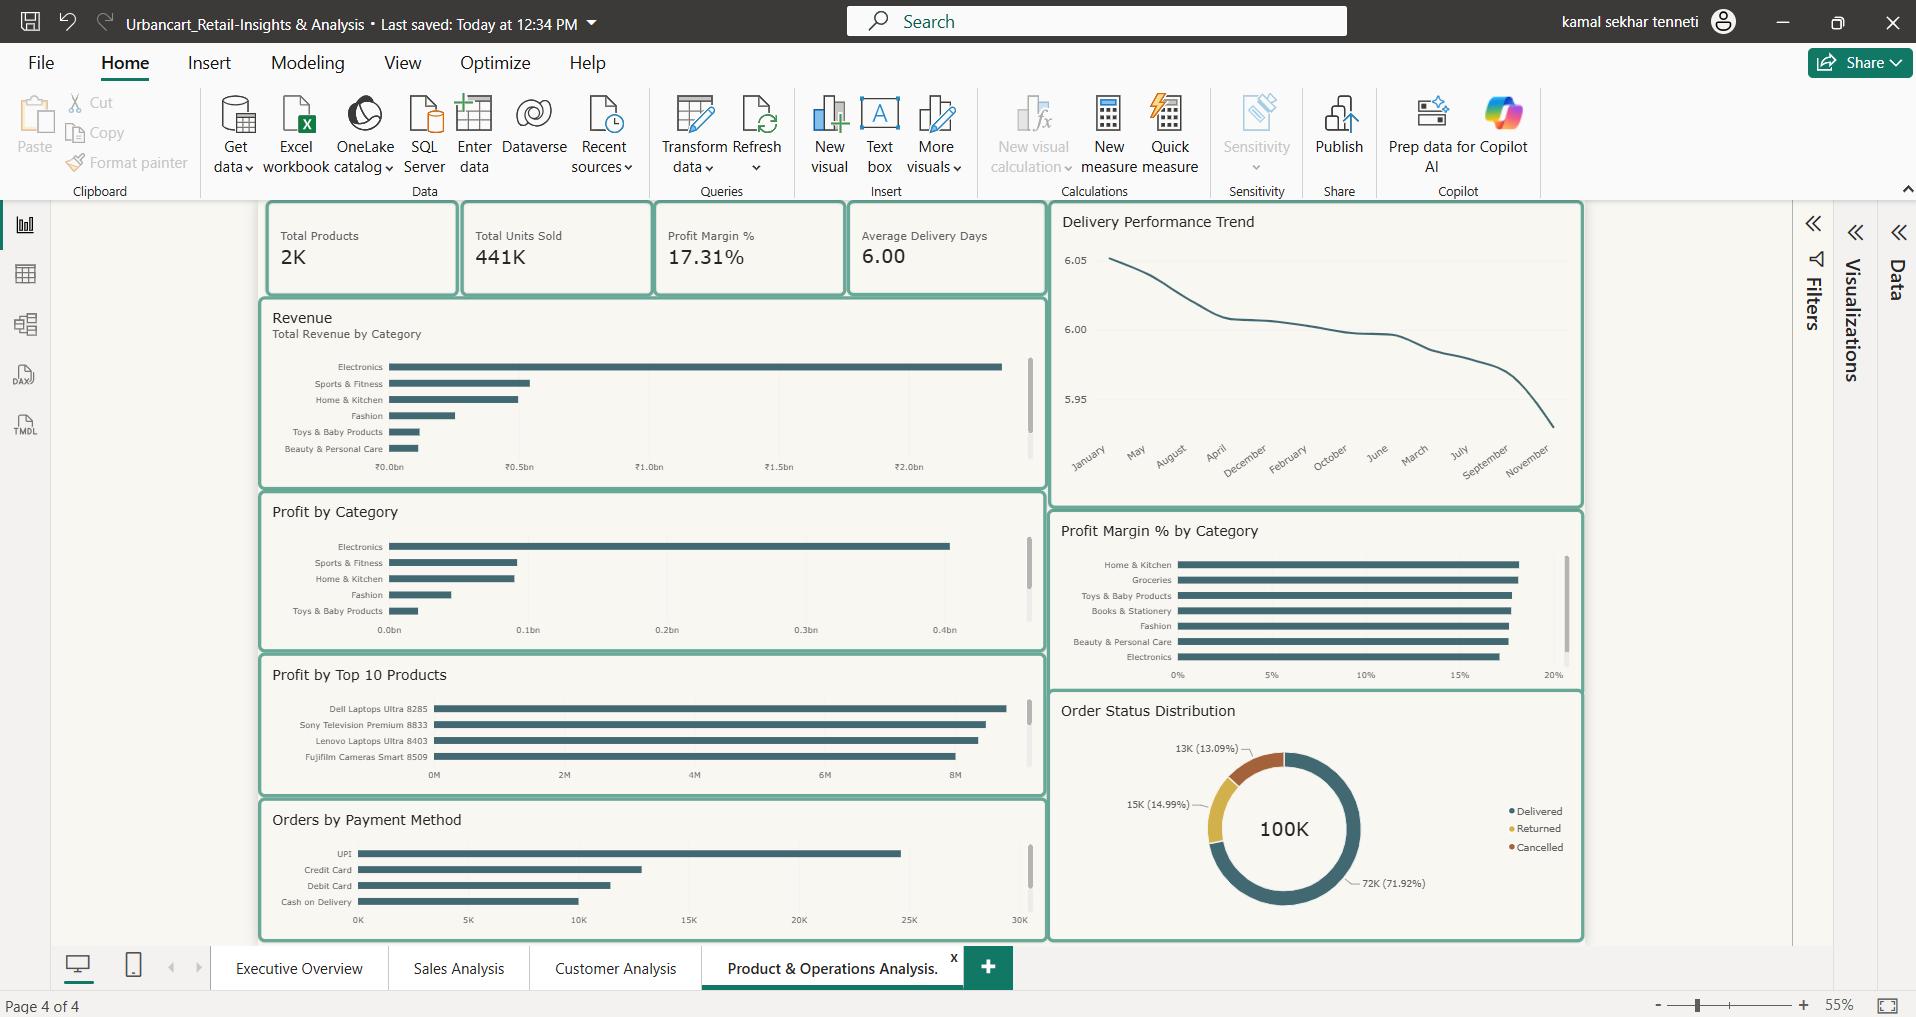

The page's visual inventory and layout, read from the dashboard file:
{"tool":"powerbi","page":{"name":"Product & Operations Analysis.","canvas":[1920,1080],"ordinal":3},"visuals":[{"type":"cardVisual","fields":{"Data":["Products.Total Products"]},"box":[10,0,280,140],"z":0},{"type":"cardVisual","fields":{"Data":["Order_Details.Total Units Sold"]},"box":[292.5,0,280,140],"z":1000},{"type":"cardVisual","fields":{"Data":["Order_Details.Profit Margin %"]},"box":[572.5,0,280,140],"z":2000},{"type":"cardVisual","fields":{"Data":["Order_Details.Average Delivery Days"]},"box":[852.4,0,291.4,139.3],"z":3000},{"type":"clusteredBarChart","title":"Revenue","fields":{"Category":["Products.Category"],"Y":["Order_Details.Total Revenue"]},"box":[0,139.3,1143.7,280.5],"z":4000},{"type":"clusteredBarChart","title":"Profit by Category","fields":{"Category":["Products.Category"],"Y":["Order_Details.Total Profit"]},"box":[0,419.8,1141.9,235.3],"z":5000},{"type":"clusteredBarChart","title":"Profit by Top 10 Products","fields":{"Category":["Products.Product_Name"],"Y":["Order_Details.Total Profit"]},"box":[0,655.1,1141.9,209.9],"z":6000},{"type":"clusteredBarChart","fields":{"Category":["Products.Category"],"Y":["Order_Details.Profit Margin %"]},"box":[1141.9,447,778.2,273.3],"z":7000},{"type":"donutChart","title":"Order Status Distribution","fields":{"Category":["Orders.Order_Status"],"Y":["Orders.Total All Orders"]},"box":[1141.9,707.6,778.2,367.4],"z":8000},{"type":"clusteredBarChart","title":"Orders by Payment Method","fields":{"Category":["Orders.Payment_Method"],"Y":["Order_Details.Total Orders"]},"box":[0,865,1143.7,209.9],"z":9000},{"type":"lineChart","title":"Delivery Performance Trend","fields":{"Category":["Date_Dimension.Month_Name"],"Y":["Order_Details.Average Delivery Days"]},"box":[1143.7,0,776.3,447],"z":10000}]}

Visuals, with their boxes on the page's 1920x1080 design canvas (x1, y1, x2, y2). These are canvas units, not pixel positions in the 1916x1017 screenshot, which may show the page scaled, cropped or inside an application window:
cardVisual - Products.Total Products: (10, 0, 290, 140)
cardVisual - Order_Details.Total Units Sold: (292, 0, 572, 140)
cardVisual - Order_Details.Profit Margin %: (572, 0, 852, 140)
cardVisual - Order_Details.Average Delivery Days: (852, 0, 1144, 139)
"Revenue" clusteredBarChart: (0, 139, 1144, 420)
"Profit by Category" clusteredBarChart: (0, 420, 1142, 655)
"Profit by Top 10 Products" clusteredBarChart: (0, 655, 1142, 865)
clusteredBarChart - Products.Category x Order_Details.Profit Margin %: (1142, 447, 1920, 720)
"Order Status Distribution" donutChart: (1142, 708, 1920, 1075)
"Orders by Payment Method" clusteredBarChart: (0, 865, 1144, 1075)
"Delivery Performance Trend" lineChart: (1144, 0, 1920, 447)
